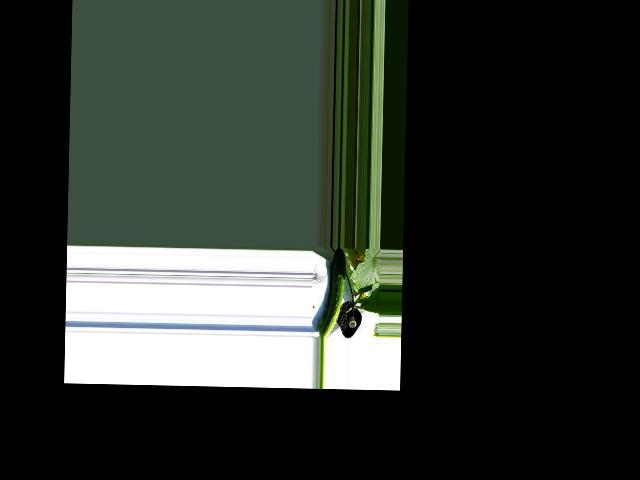cucumber: (318, 247, 346, 340)
